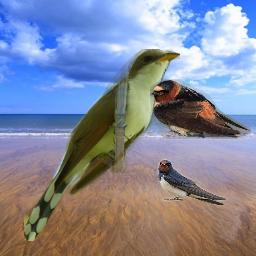Cuckoo: (24, 49, 180, 241)
Swallow: (150, 79, 251, 139), (157, 158, 247, 212)
